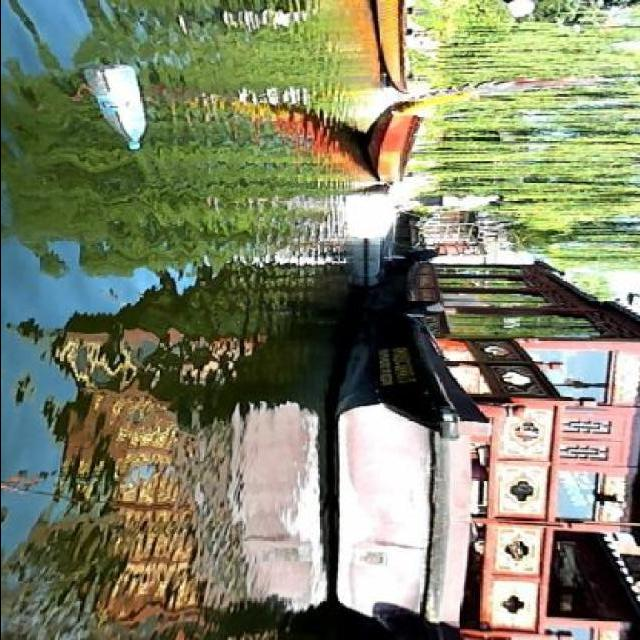Bottle: (96, 59, 150, 157)
